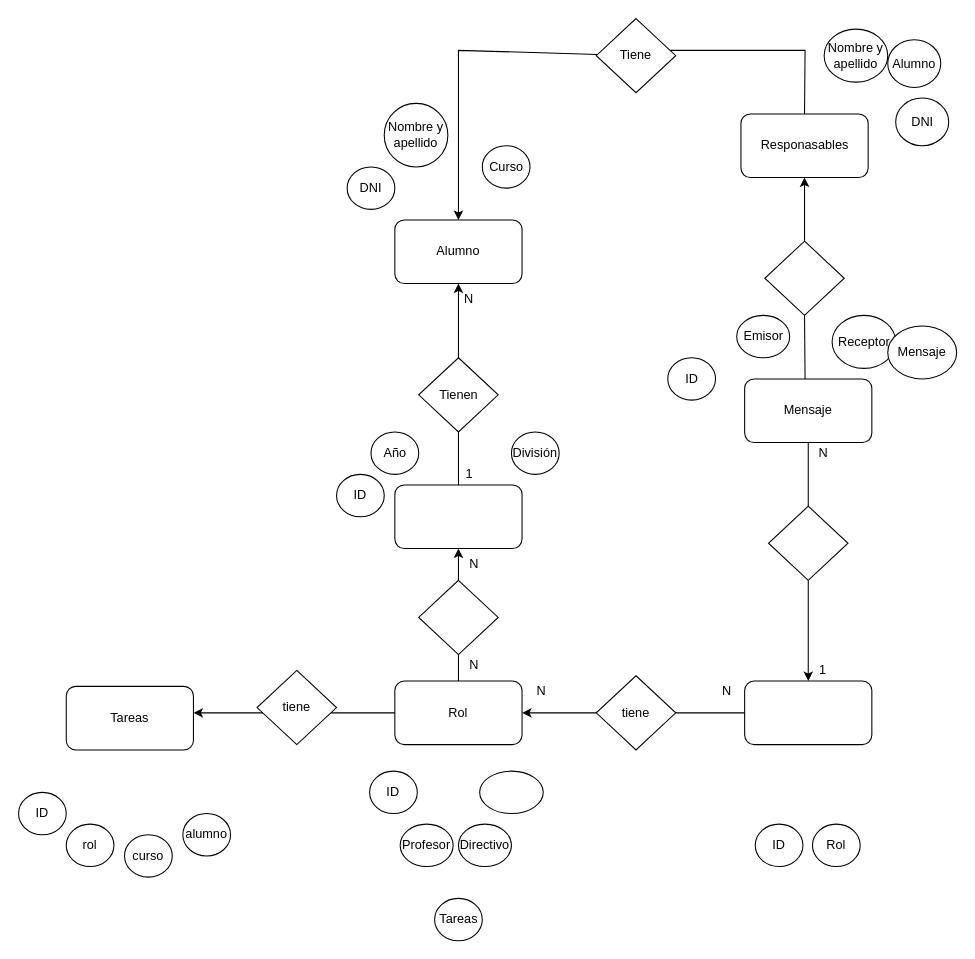
Some shapes in this 975 by 959 pixel diagram are drawn without their labels. Here are the shapes that lost their labels. From the top down, the centre of each, then its label:
At point 804,277: "llega a".
At point 458,516: "Cursos".
At point 807,542: "enviado por".
At point 458,617: "Asignado".
At point 808,712: "Personal".
At point 511,792: "Preceptor".
